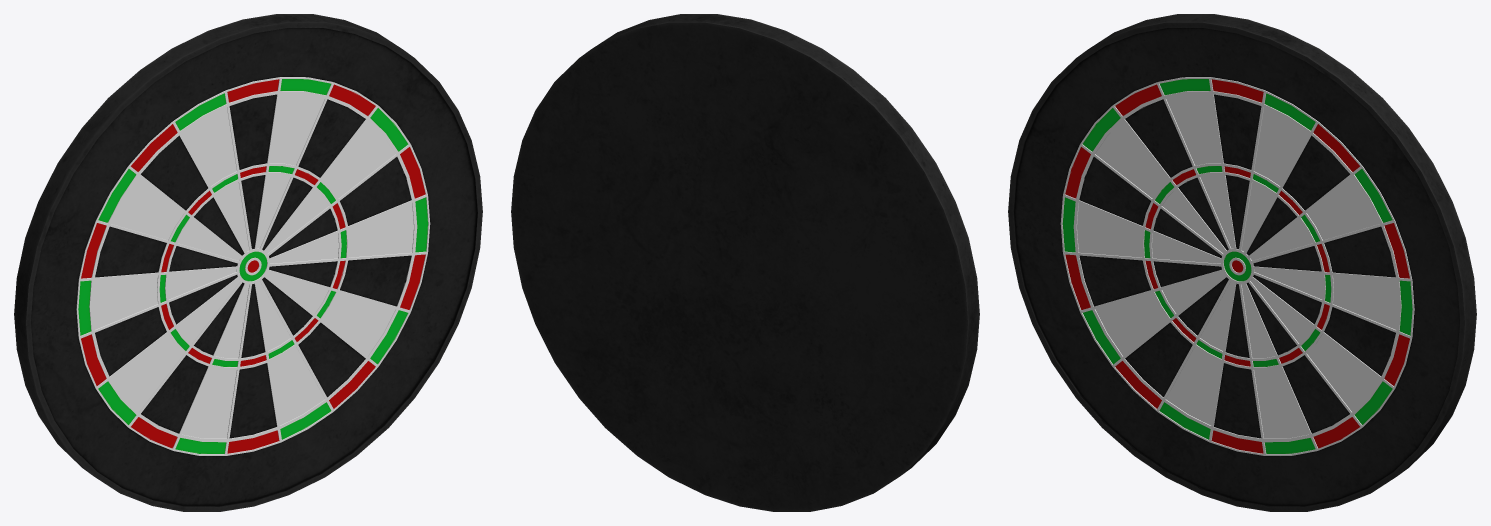
File: Dart Board.obj
The picture shows the model from 3 angles, left to right: view 1: azimuth 30°, elevation 25°; view 2: azimuth 150°, elevation 25°; view 3: azimuth 330°, elevation 25°; orthographic projection.
Visible parts, largest first — view 1: Dart_Board_Circle.001; view 2: Dart_Board_Circle.001; view 3: Dart_Board_Circle.001.
Boxes of the visible parts, x1,y1,x2,y2 form: Dart_Board_Circle.001: (14, 14, 482, 511); Dart_Board_Circle.001: (511, 14, 979, 511); Dart_Board_Circle.001: (1008, 14, 1476, 511).
Size of the model in its own units: 2.59 by 2.59 by 0.1164.
1 material, 1 textured.
